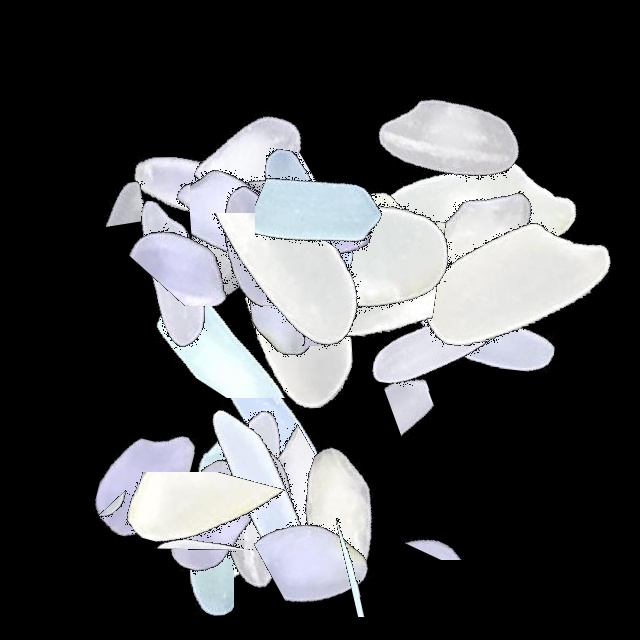Broken: (163, 162, 330, 412), (232, 191, 482, 353), (255, 97, 416, 347), (219, 464, 469, 623), (136, 213, 386, 371), (190, 86, 346, 336), (124, 245, 374, 398), (88, 159, 338, 306), (173, 145, 317, 395), (196, 390, 338, 640), (173, 125, 312, 375), (98, 390, 234, 640), (184, 137, 434, 273), (83, 472, 333, 605), (133, 146, 383, 275), (174, 226, 424, 346), (50, 50, 152, 300), (118, 448, 368, 550), (317, 354, 567, 454), (272, 517, 522, 617), (197, 245, 447, 343), (326, 467, 576, 560), (318, 141, 409, 391), (274, 93, 362, 343), (38, 470, 288, 551)
Full: (362, 215, 612, 465), (349, 96, 599, 346), (169, 187, 419, 437), (354, 124, 604, 374), (147, 306, 397, 556), (129, 390, 379, 640), (130, 351, 380, 601), (132, 118, 382, 368), (314, 221, 564, 471), (111, 73, 361, 323), (128, 390, 378, 640), (17, 357, 267, 607), (84, 390, 334, 640), (179, 128, 429, 378), (390, 156, 640, 406), (49, 147, 299, 397), (134, 362, 384, 612), (214, 390, 464, 640), (224, 129, 474, 379), (324, 15, 574, 265), (115, 49, 365, 299), (113, 114, 363, 364), (185, 87, 435, 337), (149, 93, 399, 343), (139, 122, 389, 372)
